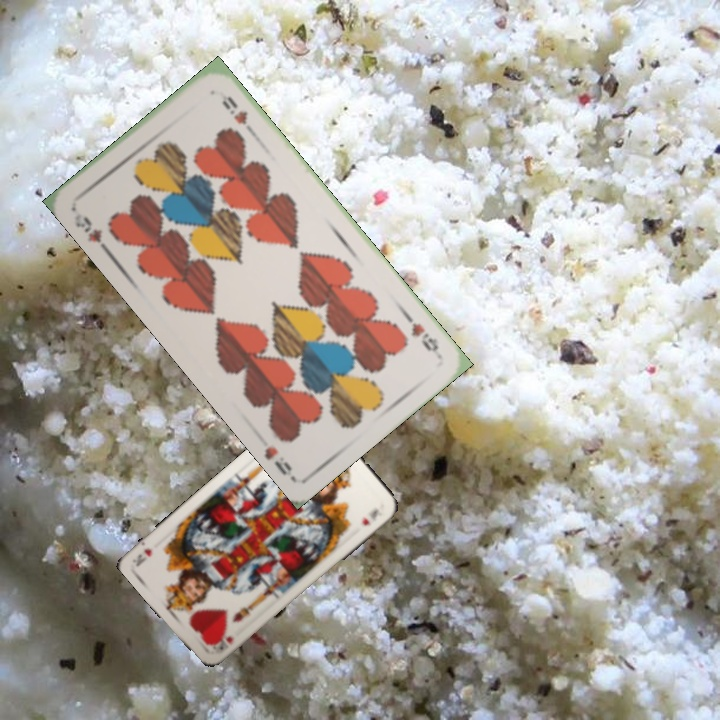H9: (70, 209, 112, 256), (407, 318, 441, 355)
HK: (210, 631, 236, 652)
